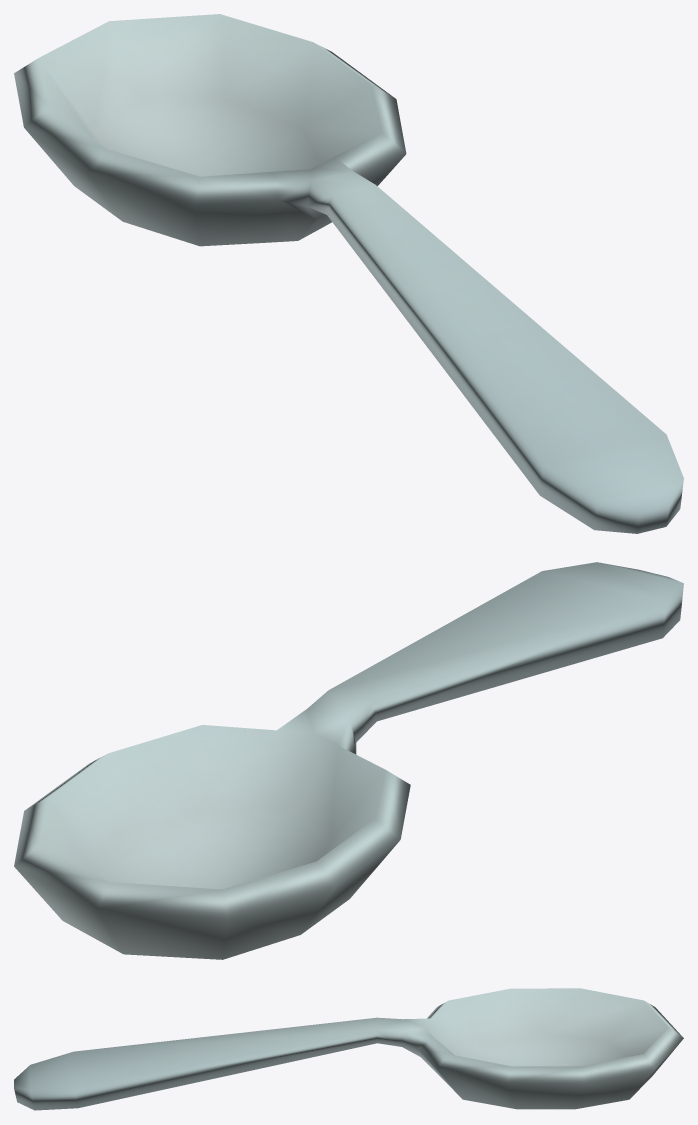
Rendered from big_spoon_01.fbx.
The picture shows the model from 3 angles, top to bottom: view 1: azimuth 30°, elevation 25°; view 2: azimuth 150°, elevation 25°; view 3: azimuth 270°, elevation 25°; orthographic projection. The views are drawn at different scales.
Parts seen in each view (by area): view 1: big_spoon_01; view 2: big_spoon_01; view 3: big_spoon_01.
Part boxes in pixels (bbox=[...]): big_spoon_01: bbox=[14, 14, 683, 533]; big_spoon_01: bbox=[14, 562, 683, 959]; big_spoon_01: bbox=[14, 988, 683, 1110].
Bounding box in the file's own units: 12.68 × 4.85 × 39.45.
